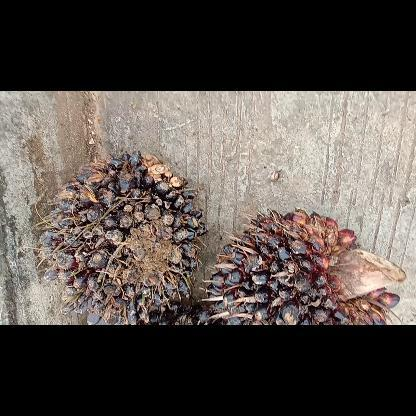TBS mentah: (33, 148, 206, 324), (204, 204, 409, 324)
